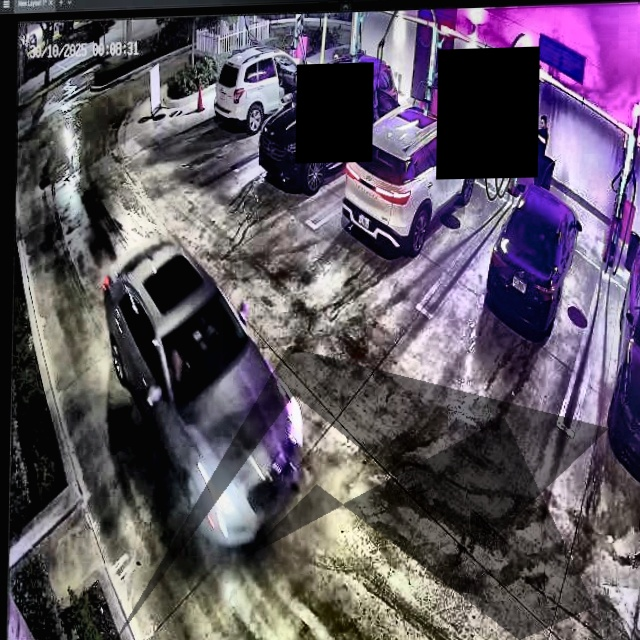Car: (93, 233, 302, 542), (338, 103, 477, 253), (256, 55, 396, 192), (486, 186, 579, 341)
